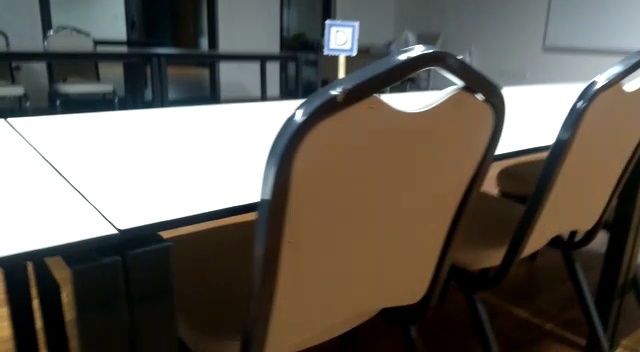durak: (322, 22, 359, 57)
